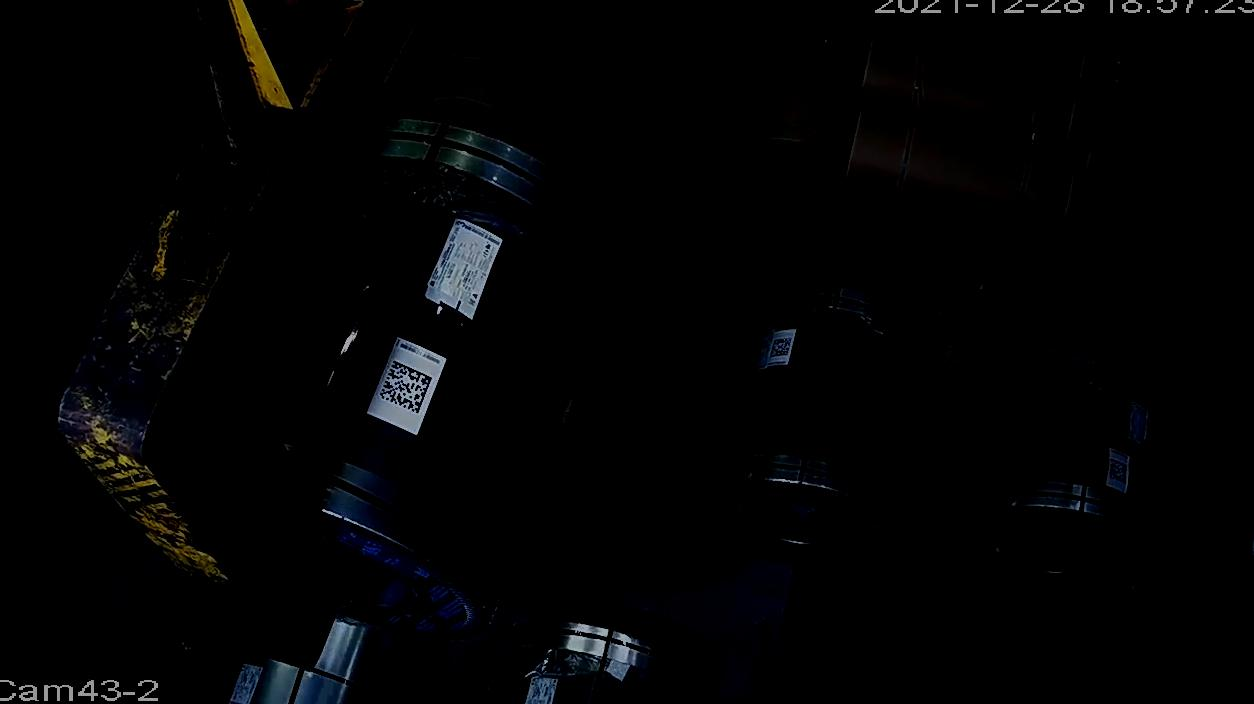data matrix: (376, 359, 435, 418), (1108, 457, 1130, 486), (769, 336, 795, 360)
